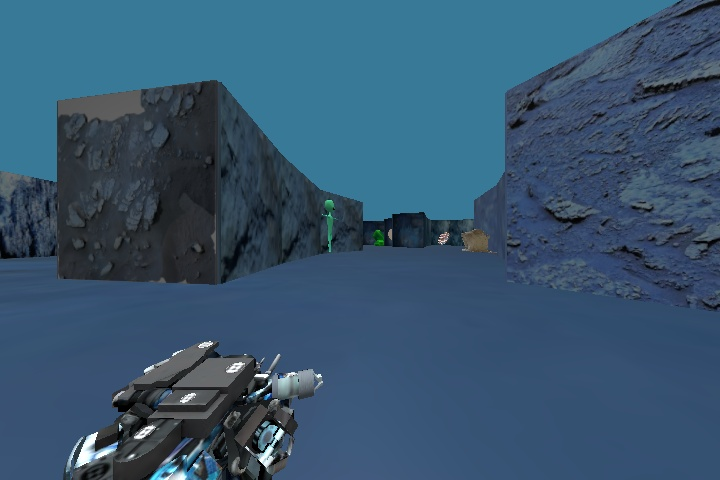formation: (453, 226, 490, 253)
green_alien: (314, 194, 342, 256)
green_crystal: (369, 220, 386, 246)
